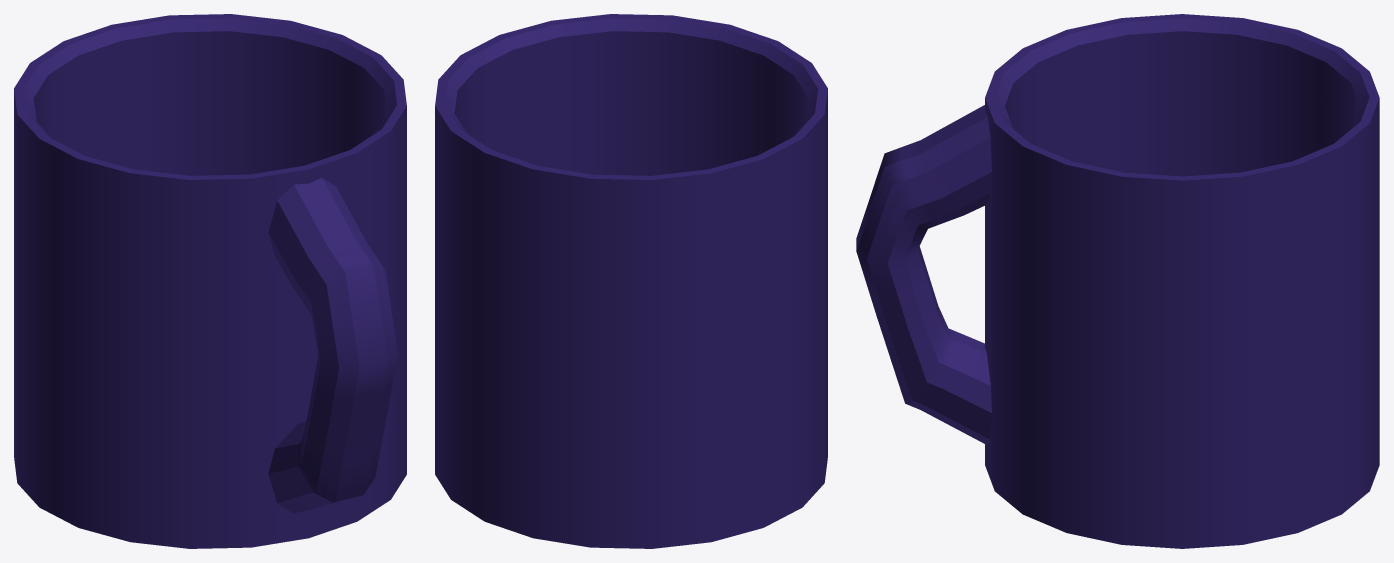
Rendered from MUG3BLUE.fbx.
3 views of the same model, side by side, from view 1: azimuth 30°, elevation 25°; view 2: azimuth 150°, elevation 25°; view 3: azimuth 270°, elevation 25° (orthographic).
Visible parts, largest first — view 1: pTorus2, pTorus3; view 2: pTorus2, pTorus3; view 3: pTorus2, pTorus3.
Boxes of the visible parts, bbox=[...] form: pTorus2: bbox=[14, 14, 406, 548]; pTorus3: bbox=[27, 20, 406, 541]; pTorus2: bbox=[435, 14, 827, 548]; pTorus3: bbox=[445, 24, 827, 548]; pTorus2: bbox=[856, 14, 1379, 548]; pTorus3: bbox=[858, 23, 1379, 546].
Size of the model in its own units: 1.03 by 1.06 by 1.36.
